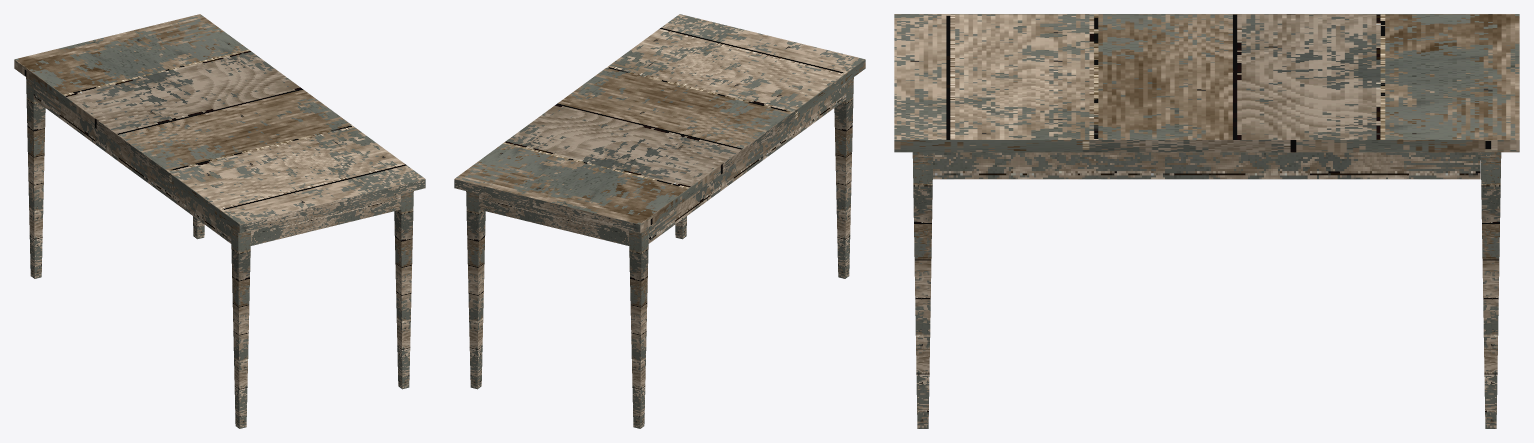
Rendered from KitchenTable.fbx.
3 views of the same model, side by side, from view 1: azimuth 30°, elevation 25°; view 2: azimuth 150°, elevation 25°; view 3: azimuth 270°, elevation 25° (orthographic). The views are drawn at different scales.
Parts seen in each view (by area): view 1: KitchenTable_low, KitchenTable_low.001, KitchenTable_low.002, KitchenTable_low.003; view 2: KitchenTable_low, KitchenTable_low.001, KitchenTable_low.002, KitchenTable_low.003; view 3: KitchenTable_low, KitchenTable_low.002, KitchenTable_low.001.
Part boxes in pixels (left/top/right/bottom): KitchenTable_low: left=14, top=14, right=425, bottom=233; KitchenTable_low.001: left=26, top=77, right=413, bottom=428; KitchenTable_low.002: left=33, top=83, right=231, bottom=243; KitchenTable_low.003: left=250, top=194, right=401, bottom=245; KitchenTable_low: left=454, top=14, right=865, bottom=233; KitchenTable_low.001: left=466, top=77, right=853, bottom=428; KitchenTable_low.002: left=648, top=83, right=846, bottom=243; KitchenTable_low.003: left=478, top=194, right=629, bottom=245; KitchenTable_low: left=894, top=14, right=1519, bottom=152; KitchenTable_low.002: left=933, top=152, right=1480, bottom=179; KitchenTable_low.001: left=912, top=152, right=1501, bottom=428.
Bounding box in the file's own units: 71.45 × 78 × 150.
Materials: 1 (1 with a texture image).
